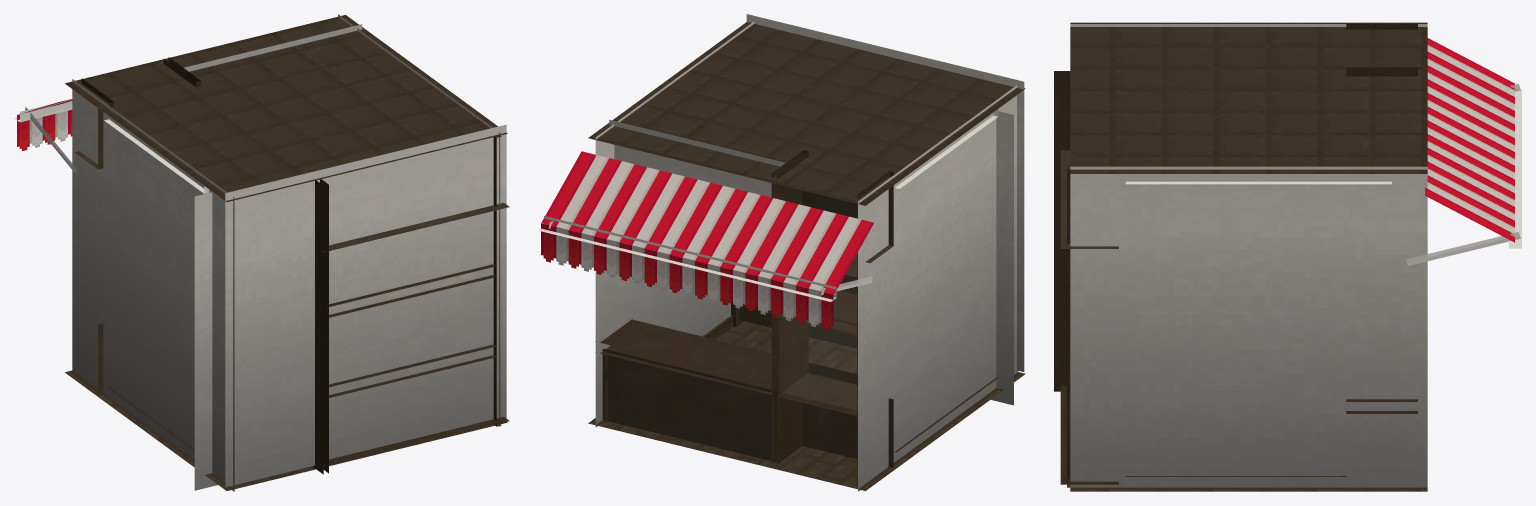
File: stall.gltf
The picture shows the model from 3 angles, left to right: view 1: azimuth 30°, elevation 25°; view 2: azimuth 150°, elevation 25°; view 3: azimuth 270°, elevation 25°; orthographic projection. The views are drawn at different scales.
Parts seen in each view (by area): view 1: stall; view 2: stall; view 3: stall.
Boxes of the visible parts, x1=… form: stall: x1=14, y1=14, x2=509, y2=491; stall: x1=538, y1=14, x2=1025, y2=491; stall: x1=1054, y1=22, x2=1521, y2=491.
Size of the model in its own units: 3.66 by 3.62 by 4.5.
Materials: 1 (1 with a texture image).
